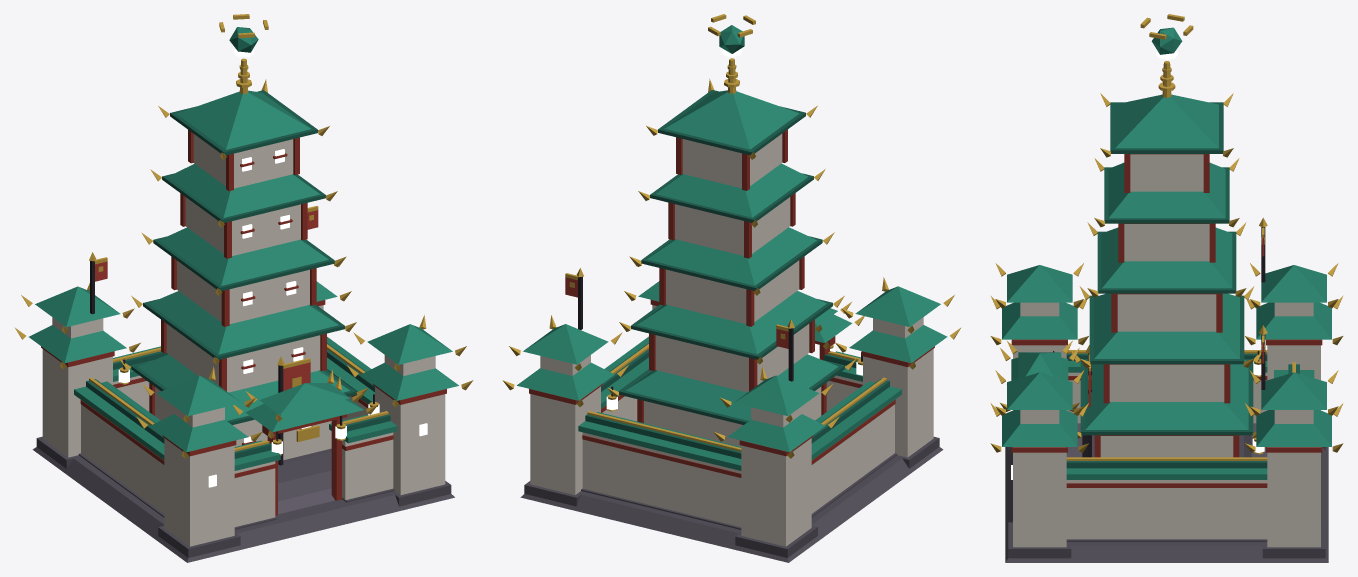
The model's file is castle_t4.glb.
3 renders of one model, left to right at view 1: azimuth 30°, elevation 25°; view 2: azimuth 150°, elevation 25°; view 3: azimuth 270°, elevation 25°, orthographic. The views are drawn at different scales.
Parts seen in each view (by area): view 1: body, glow, part_core; view 2: body, part_core; view 3: body, part_core.
Part boxes in pixels (bbox=[...]): body: bbox=[14, 58, 473, 562]; glow: bbox=[118, 49, 427, 487]; part_core: bbox=[219, 14, 268, 52]; body: bbox=[502, 58, 961, 562]; part_core: bbox=[708, 14, 755, 53]; body: bbox=[990, 61, 1343, 562]; part_core: bbox=[1140, 14, 1193, 54].
Bounding box in the file's own units: 4.55 × 6.72 × 4.59.
